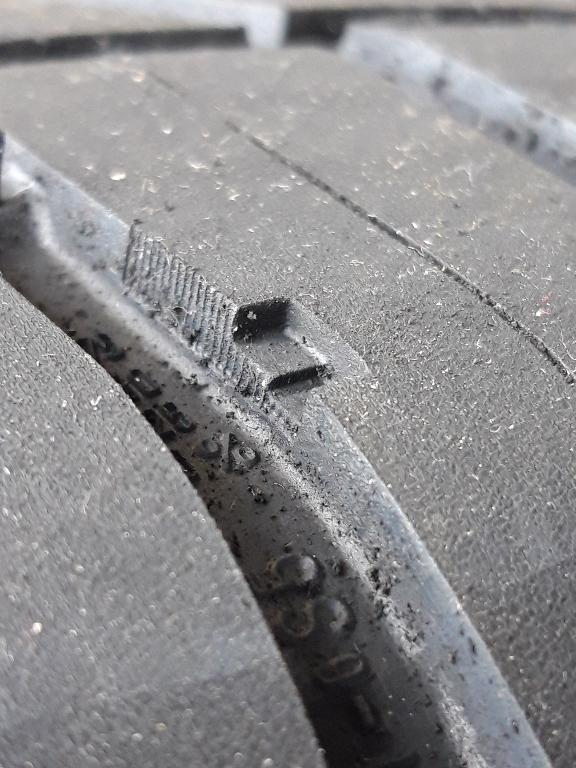temoin:50: (193, 271, 381, 449)
